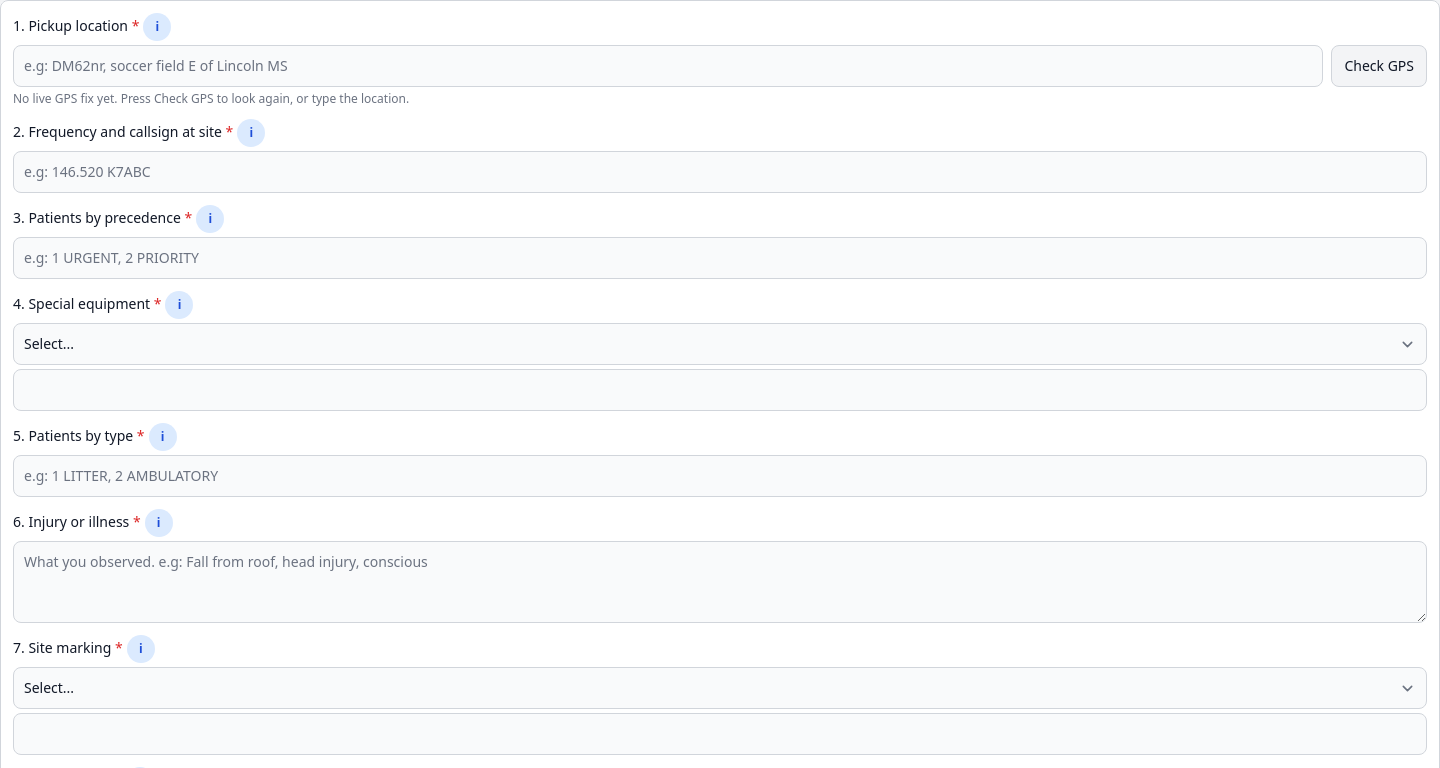
Test case: the note beside a field › opens on a click, and closes again
The image size is (1440, 768).
Click the button "i" next to "5. Patients by type": (162, 437) [148,423,176,451]
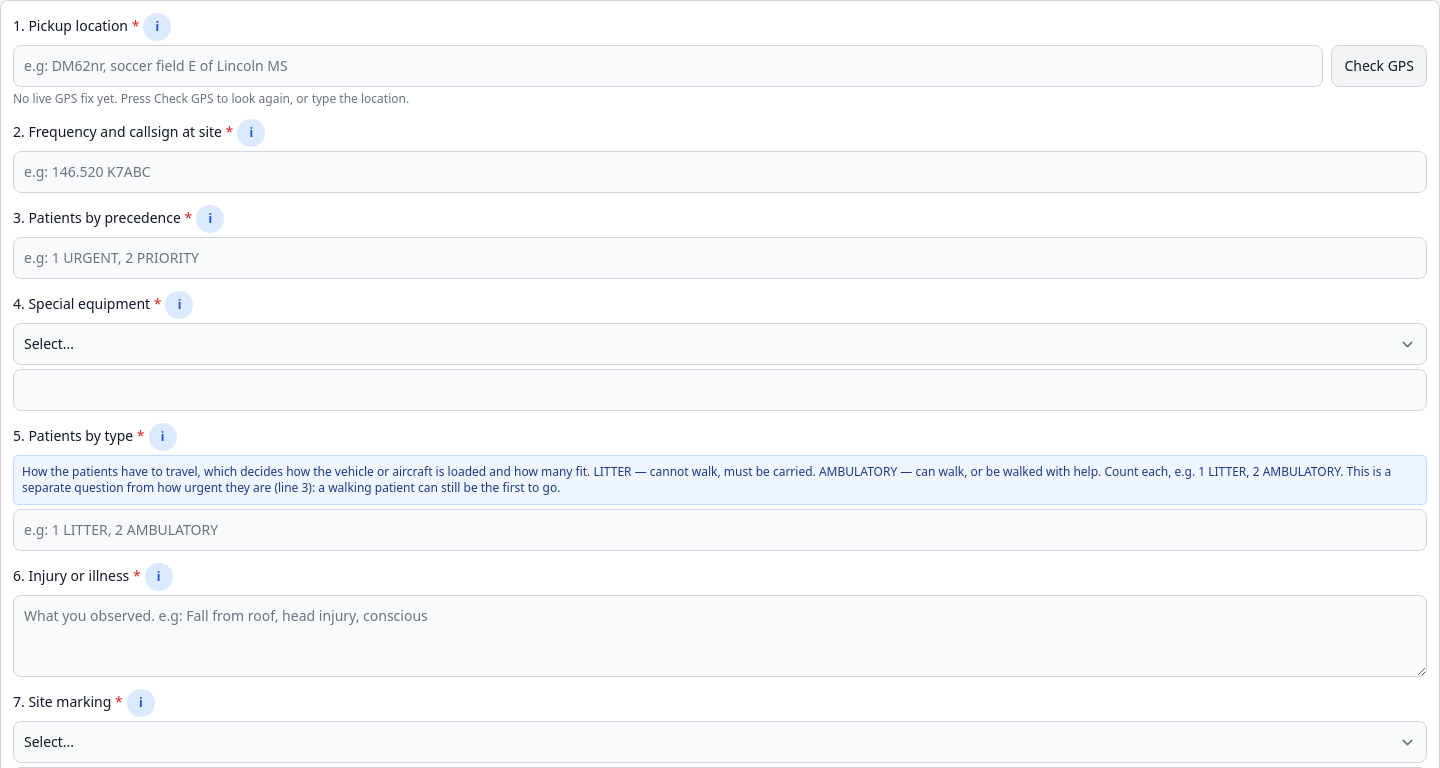
expect the text "must be carried" is shown: met, box [22,463,1391,496]
Click the button "i" next to "5. Patients by type": (162, 437) [148,423,176,451]
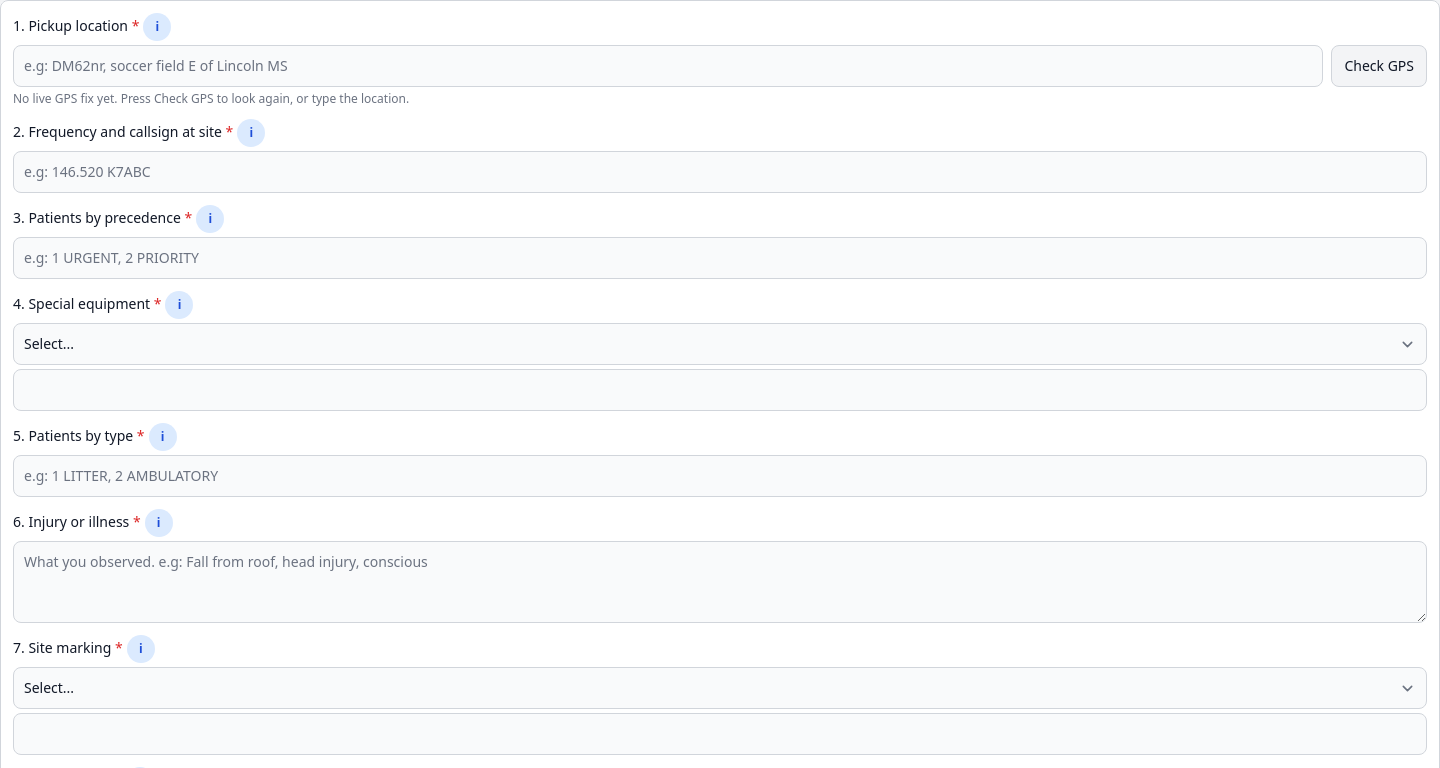
expect the text "must be carried" is gone: met
